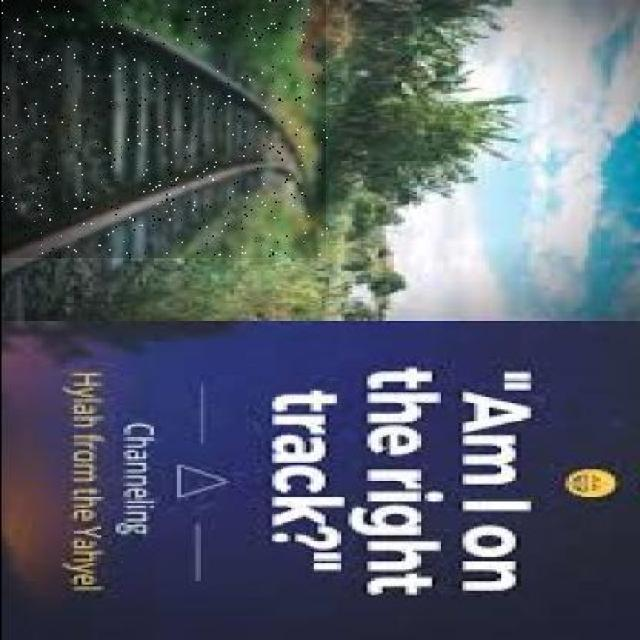rail: (1, 1, 327, 259)
